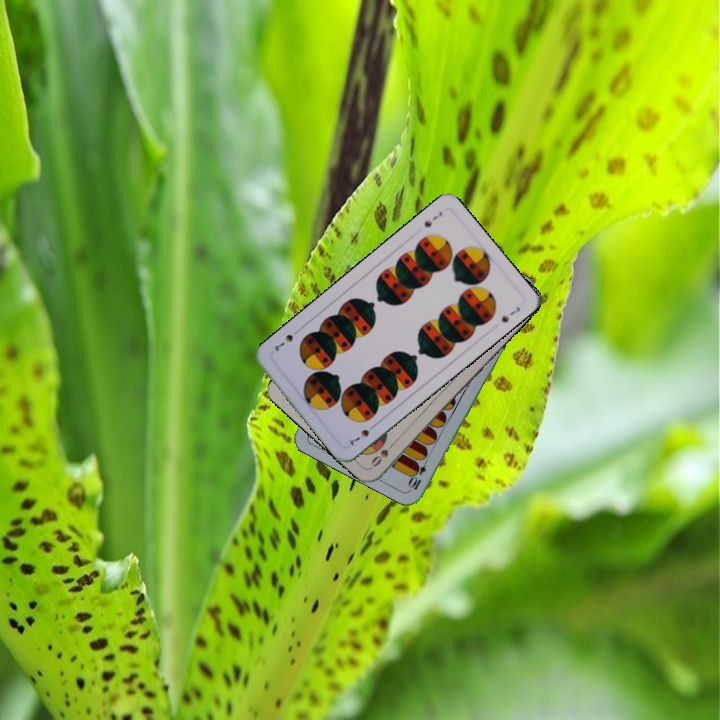E10: (405, 453, 431, 492)
S7: (346, 420, 379, 448), (420, 207, 445, 230)
SO: (367, 437, 399, 470)
